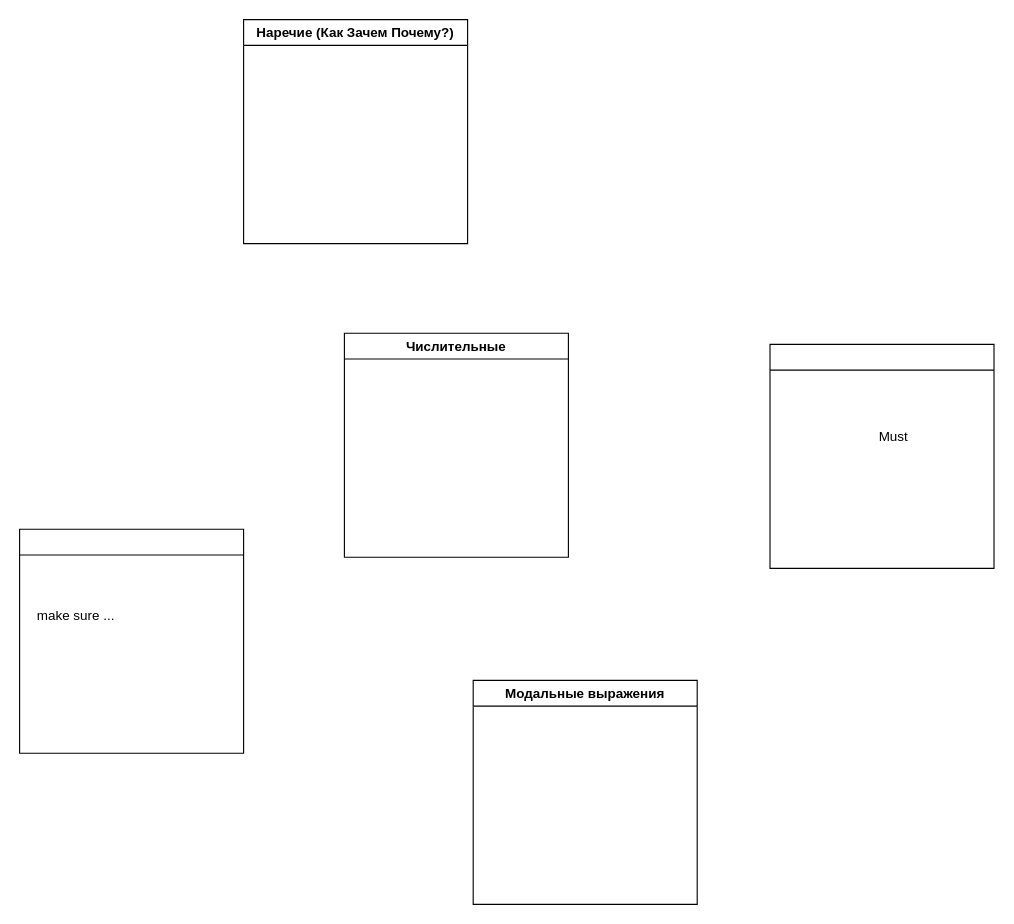
The diagram is 1014 pixels wide and 924 high, and some of its shapes have lost their labels. The box of each missing label's shape, as (x1, y1, x2, y2) in pixels:
Модальные глаголы: (769, 343, 994, 568)
Фразовые глаголы: (18, 528, 244, 753)
